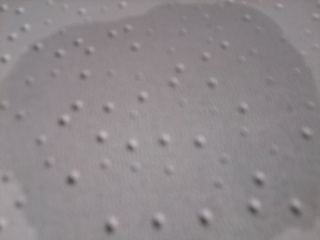Water_detected: (60, 47, 265, 240)
